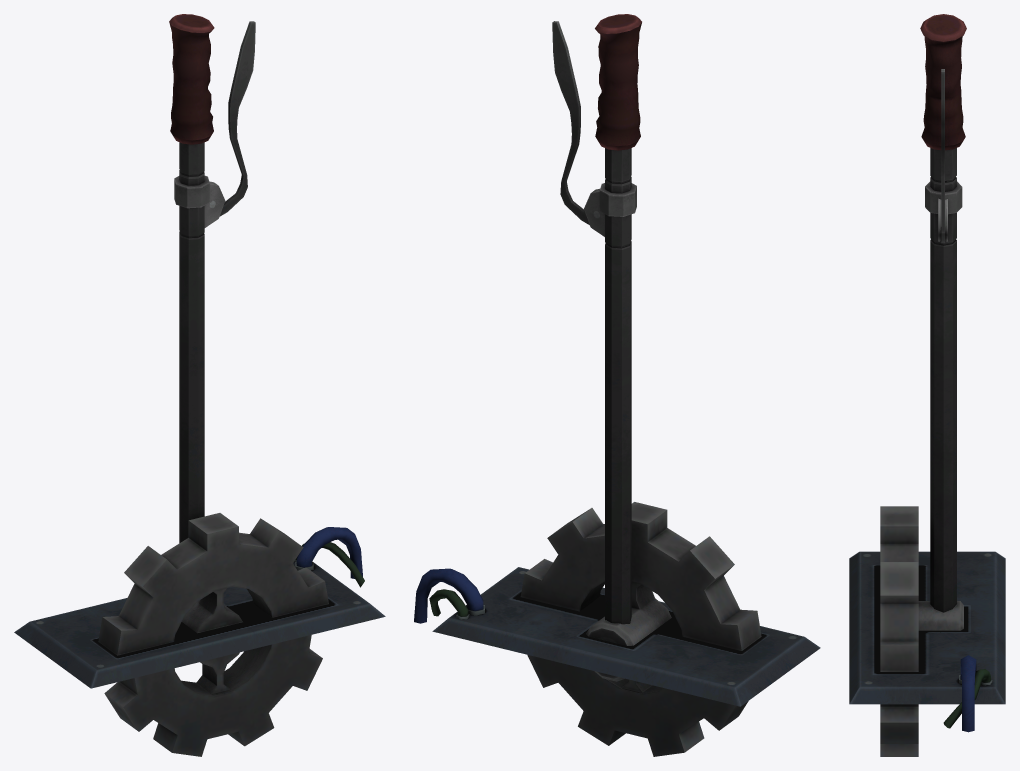
3 renders of one model, left to right at view 1: azimuth 30°, elevation 25°; view 2: azimuth 150°, elevation 25°; view 3: azimuth 270°, elevation 25°, orthographic. The views are drawn at different scales.
Parts seen in each view (by area): view 1: Model_Lever, Model_Lever.001; view 2: Model_Lever, Model_Lever.001; view 3: Model_Lever, Model_Lever.001.
Boxes of the visible parts, bbox=[...] form: Model_Lever: bbox=[98, 14, 328, 756]; Model_Lever.001: bbox=[14, 527, 385, 688]; Model_Lever: bbox=[520, 14, 761, 756]; Model_Lever.001: bbox=[414, 567, 820, 706]; Model_Lever: bbox=[880, 14, 966, 756]; Model_Lever.001: bbox=[849, 551, 1005, 732].
Bounding box in the file's own units: 107 × 219 × 43.05.
